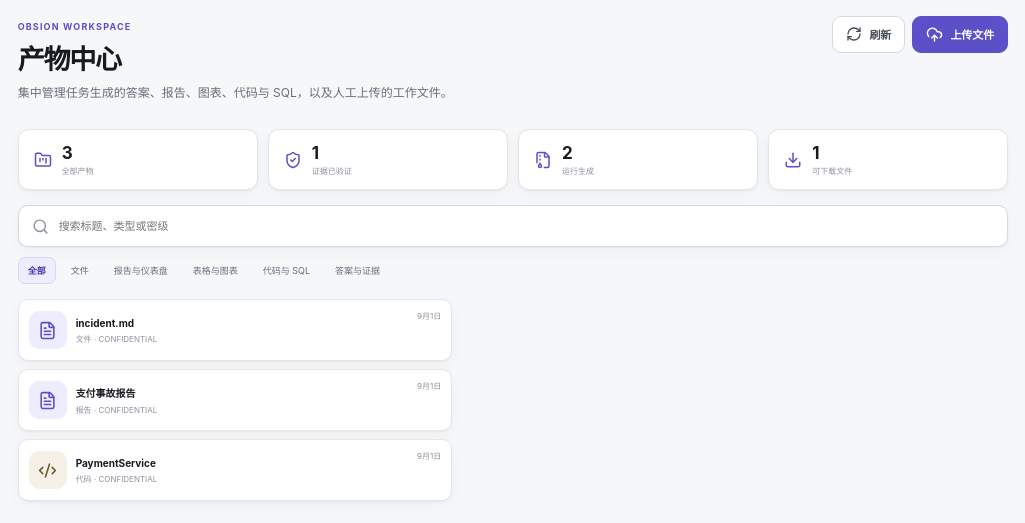
Scenario: ArtifactsView interactions › filters artifacts by governed kind and query while hiding stale detail
Click the button "支付事故报告 报告 · CONFIDENTIAL 9月1日": (48, 400) [18,369,452,431]
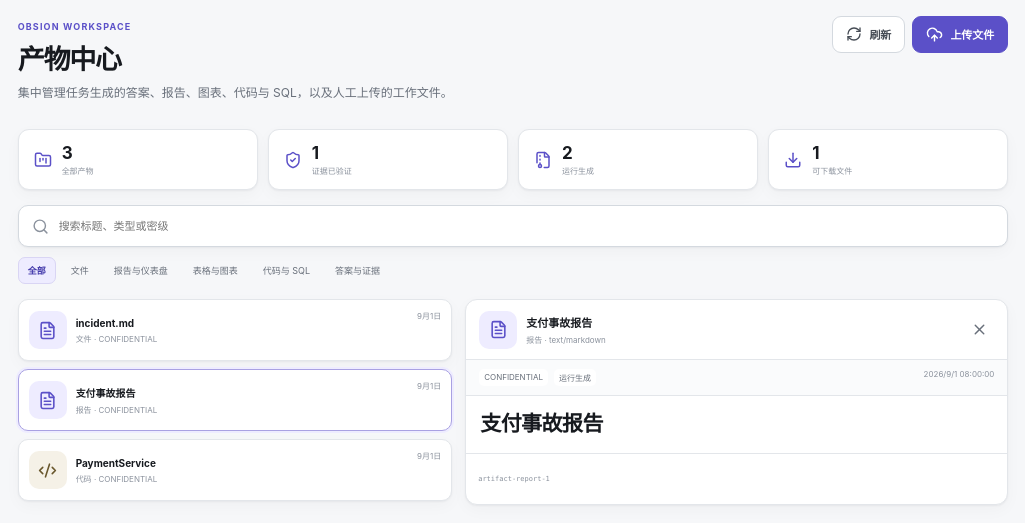
Check: the element named "产物详情" is shown, box [465,299,1008,505]
Click the button "代码与 SQL": (286, 271) [253,257,320,284]
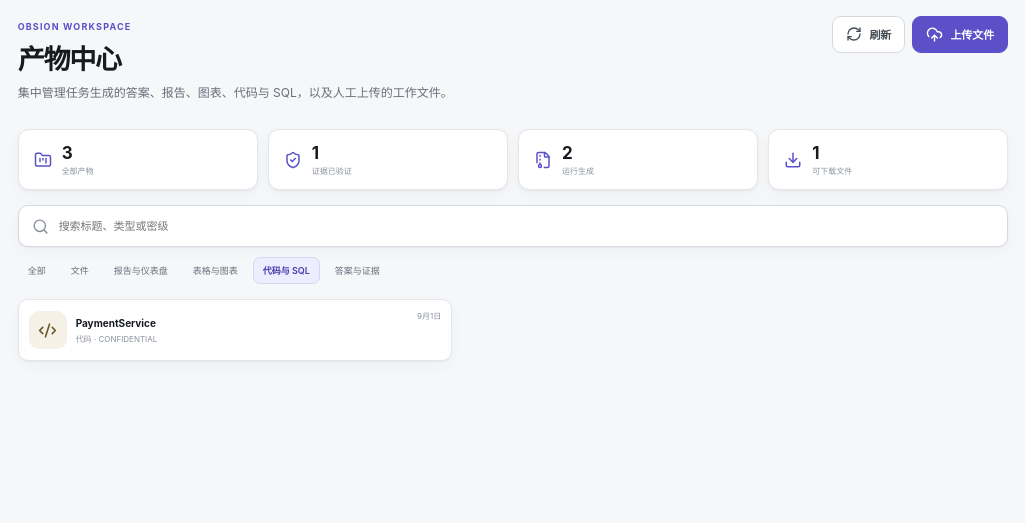
Check: the text "PaymentService" is shown, box [76,317,156,329]
Check: the button "支付事故报告" is gone
Check: the field labelled "产物详情" is gone
In the field with placeholder "搜索标题、类型或密级": (526, 226) [57,206,994,246], type "missing"
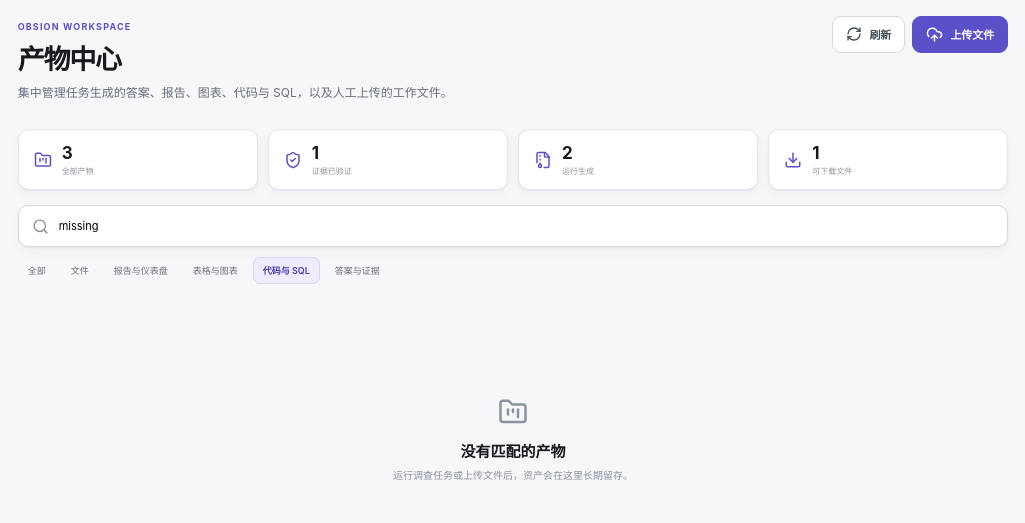
Check: the heading "没有匹配的产物" is shown, box [460,440,566,461]
